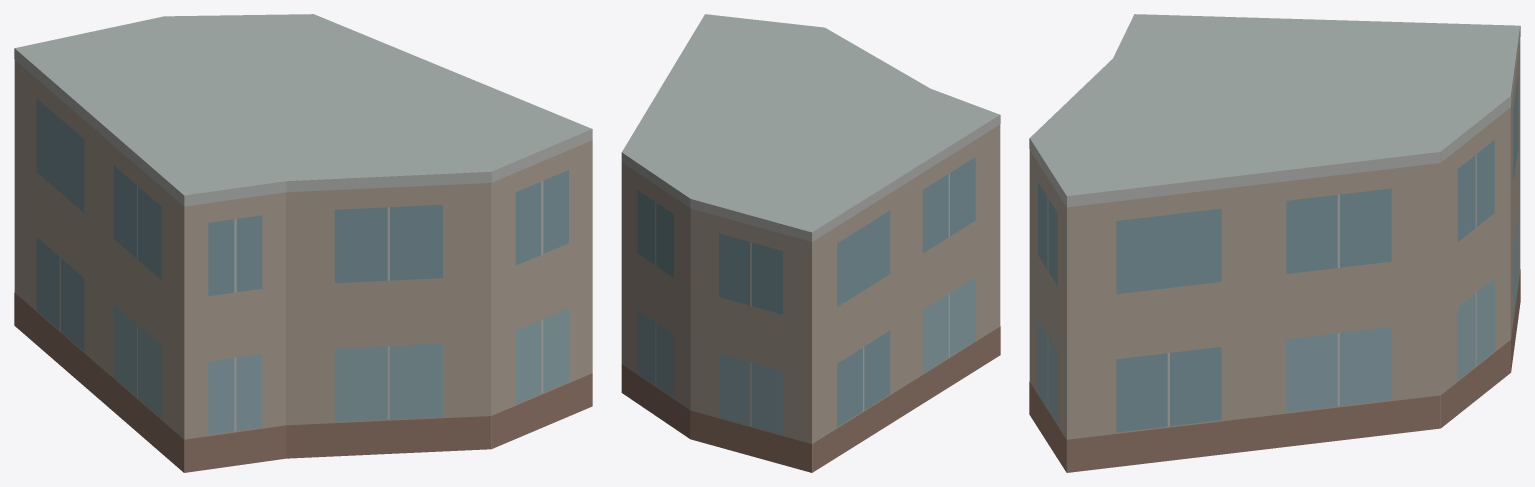
File: survey-upis-32804843.glb
The picture shows the model from 3 angles, left to right: view 1: azimuth 30°, elevation 25°; view 2: azimuth 150°, elevation 25°; view 3: azimuth 270°, elevation 25°; orthographic projection. The views are drawn at different scales.
Visible parts, largest first — view 1: survey-upis-32804843.tmp; view 2: survey-upis-32804843.tmp; view 3: survey-upis-32804843.tmp.
Boxes of the visible parts, <box> form: survey-upis-32804843.tmp: <box>14,14,592,472</box>; survey-upis-32804843.tmp: <box>621,14,1000,472</box>; survey-upis-32804843.tmp: <box>1029,14,1520,472</box>.
Bounding box in the file's own units: 8.63 × 6.1 × 9.82.
